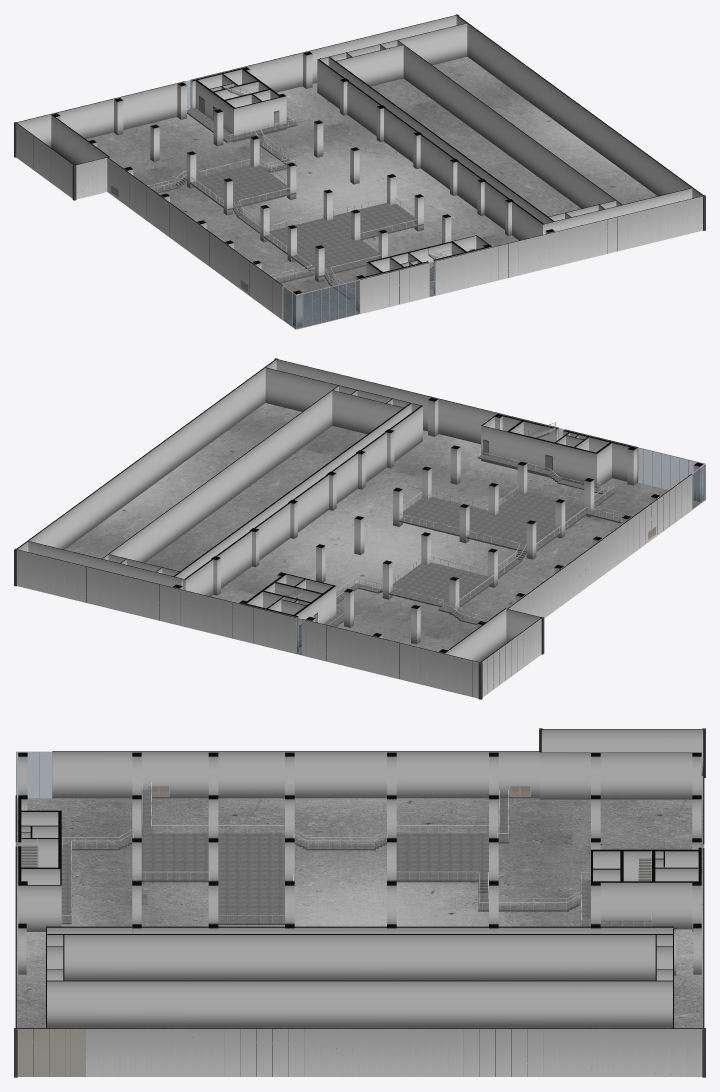
The picture shows the model from 3 angles, top to bottom: view 1: azimuth 30°, elevation 25°; view 2: azimuth 150°, elevation 25°; view 3: azimuth 270°, elevation 25°; orthographic projection. The views are drawn at different scales.
Parts seen in each view (by area): view 1: W&FF-6F-2, Line1258, Group545, Rectangle1762, Line832; view 2: W&FF-6F-2, Line1258, Group545, Rectangle1762, Line832; view 3: W&FF-6F-2, Line1258, Group545, Line832, Rectangle1762, Railing077, Rectangle1780.
Boxes of the visible parts, x1,y1,x2,y2 form: W&FF-6F-2: (16, 15, 703, 327); Line1258: (86, 56, 657, 328); Group545: (153, 108, 423, 299); Rectangle1762: (185, 80, 435, 329); Line832: (147, 106, 417, 297); W&FF-6F-2: (16, 359, 703, 698); Line1258: (65, 403, 705, 654); Group545: (299, 454, 621, 646); Rectangle1762: (296, 428, 705, 655); Line832: (328, 448, 633, 625); W&FF-6F-2: (15, 729, 704, 1076); Line1258: (16, 776, 703, 1028); Group545: (61, 790, 651, 926); Line832: (61, 782, 651, 926); Rectangle1762: (15, 751, 704, 847); Railing077: (21, 838, 651, 881); Rectangle1780: (14, 728, 705, 1077).
Bounding box in the file's own units: 67.15 × 5.96 × 65.15.
Materials: 15 (12 with a texture image).
